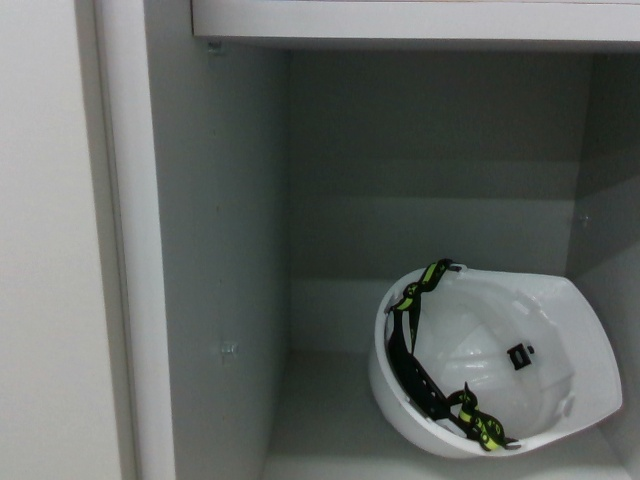helmet: (363, 257, 624, 463)
